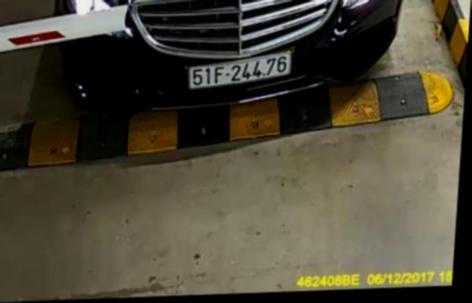License_Plate: (187, 49, 293, 91)
